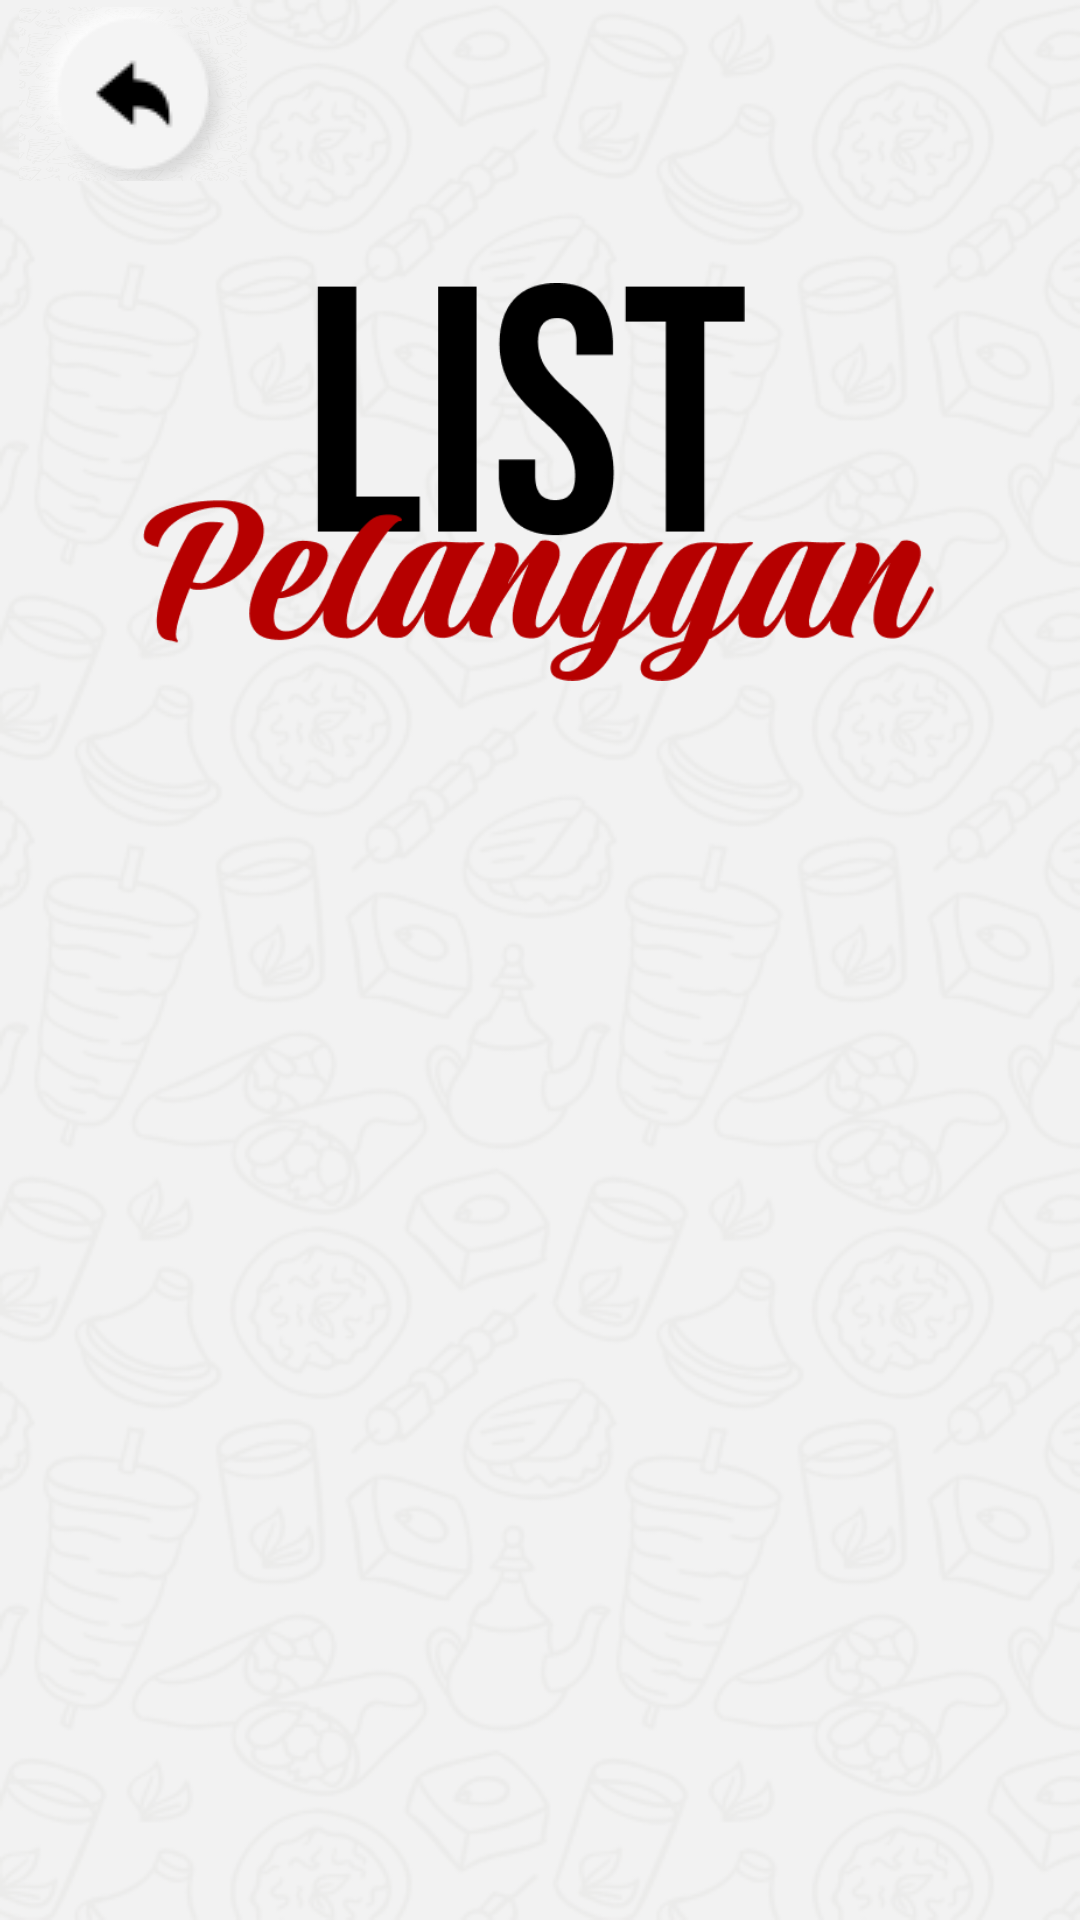

Locate icon controls on the screen. Image size 1080×1920, boxes as detection(x1, y1, x2, y2).
buttonkembali: detection(96, 61, 215, 175)
